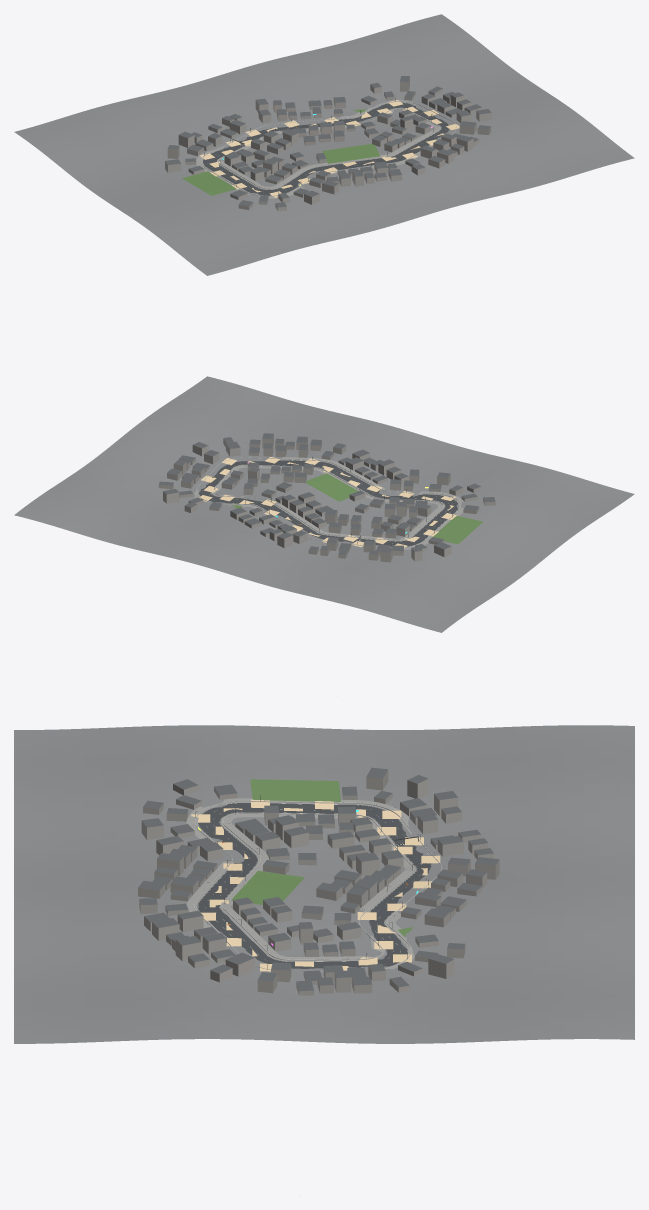
File: hillside_suburbs.glb
3 renders of one model, top to bottom at view 1: azimuth 30°, elevation 25°; view 2: azimuth 150°, elevation 25°; view 3: azimuth 270°, elevation 25°, orthographic. The views are drawn at different scales.
Visible parts, largest first — view 1: hillside_suburbs - City; view 2: hillside_suburbs - City; view 3: hillside_suburbs - City.
Boxes of the visible parts, x1,y1,x2,y2 form: hillside_suburbs - City: [14, 14, 634, 275]; hillside_suburbs - City: [14, 376, 634, 632]; hillside_suburbs - City: [14, 725, 634, 1043].
Bounding box in the file's own units: 920 × 430 × 720.
